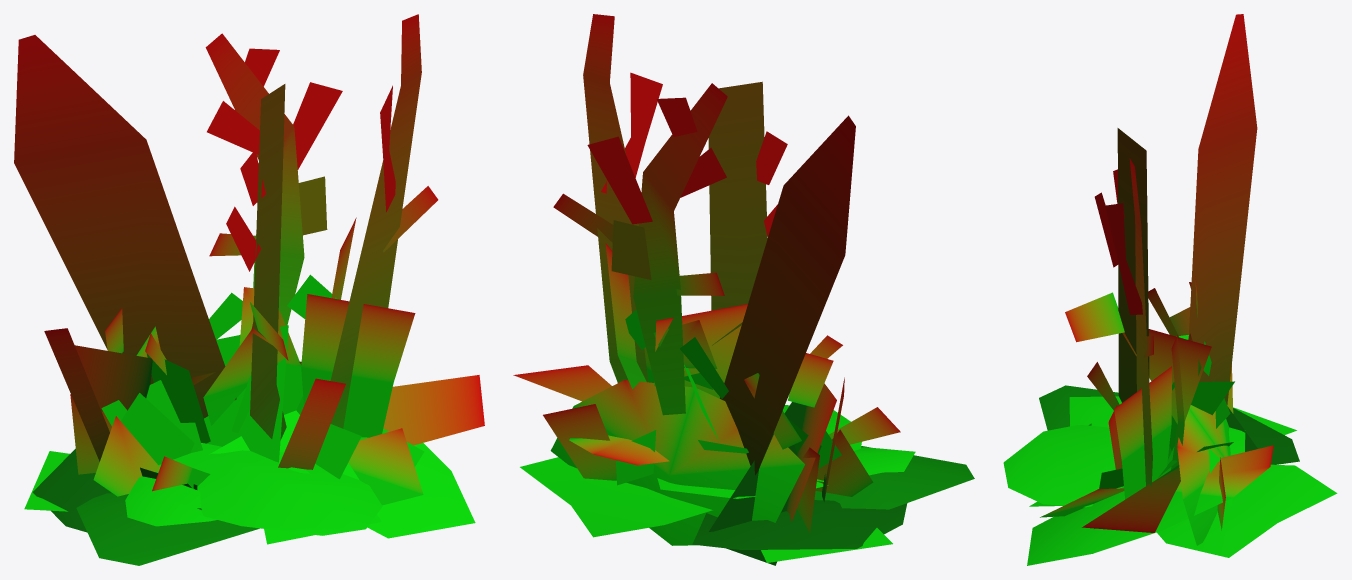
The model's file is DrySet01_Var11_LOD1.fbx.
3 renders of one model, left to right at view 1: azimuth 30°, elevation 25°; view 2: azimuth 150°, elevation 25°; view 3: azimuth 270°, elevation 25°, orthographic. The views are drawn at different scales.
Visible parts, largest first — view 1: DrySet01_Var11_LOD1; view 2: DrySet01_Var11_LOD1; view 3: DrySet01_Var11_LOD1.
Part boxes in pixels (<box>): DrySet01_Var11_LOD1: <box>14,14,484,565</box>; DrySet01_Var11_LOD1: <box>513,14,974,565</box>; DrySet01_Var11_LOD1: <box>1003,14,1337,565</box>.
Bounding box in the file's own units: 91.16 × 99.85 × 70.33.
